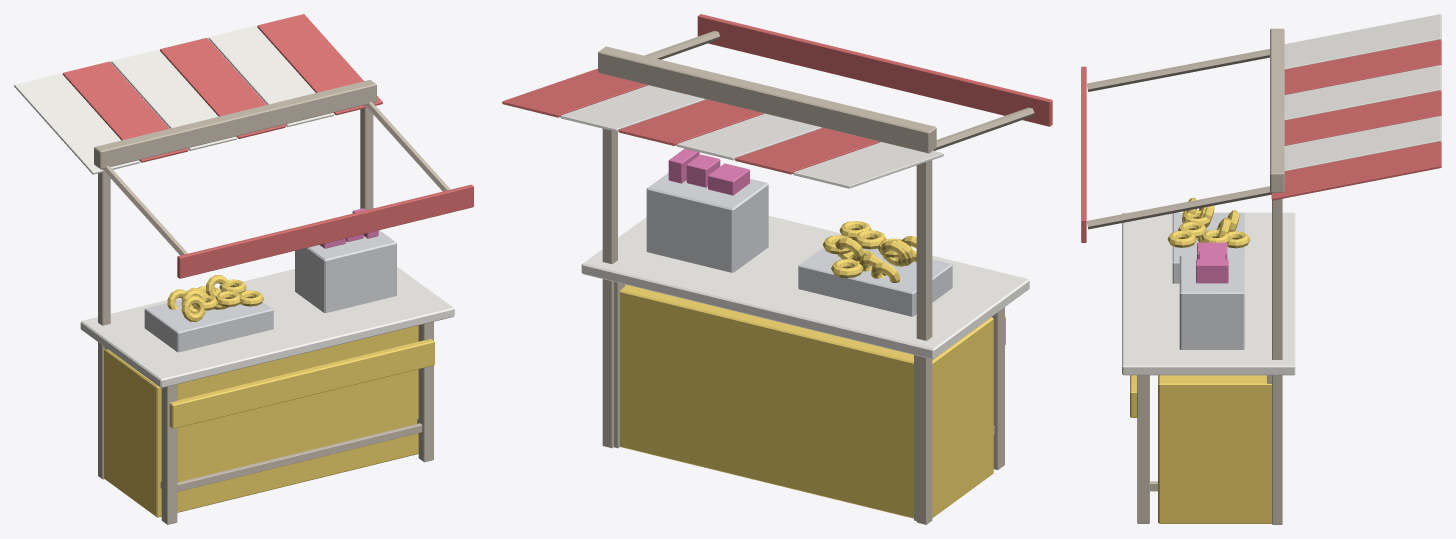
The model's file is amusement-arcade-and-seaside-pier-donut-stand-dd33c0c5__35420.glb.
The picture shows the model from 3 angles, left to right: view 1: azimuth 30°, elevation 25°; view 2: azimuth 150°, elevation 25°; view 3: azimuth 270°, elevation 25°; orthographic projection. The views are drawn at different scales.
Visible parts, largest first — view 1: donut-stand; view 2: donut-stand; view 3: donut-stand.
Boxes of the visible parts, bbox=[...] form: donut-stand: bbox=[14, 14, 473, 524]; donut-stand: bbox=[502, 14, 1052, 524]; donut-stand: bbox=[1081, 14, 1441, 524].
Size of the model in its own units: 2.02 by 2.23 by 1.99.
